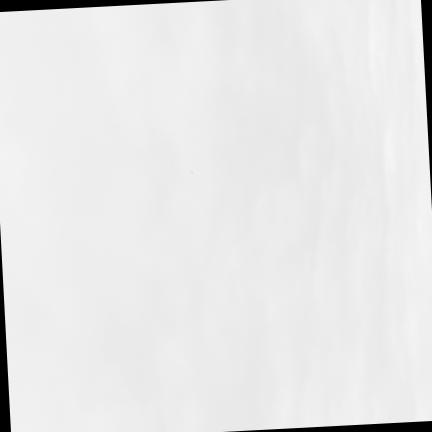Shahed: (190, 171, 193, 173)
